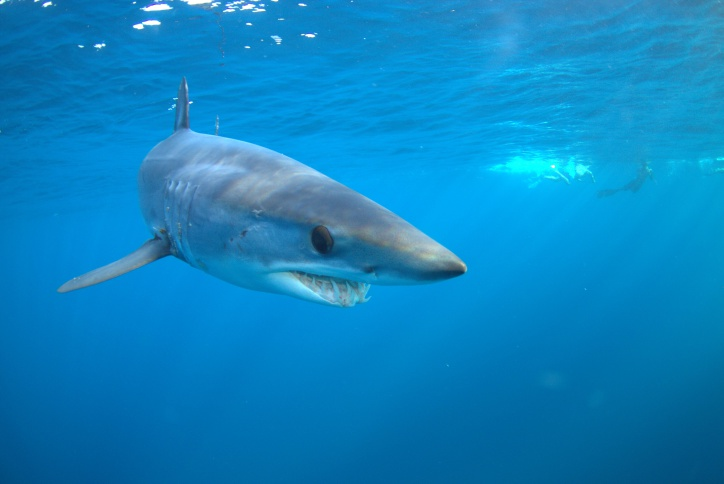Mako: (34, 74, 489, 326)
